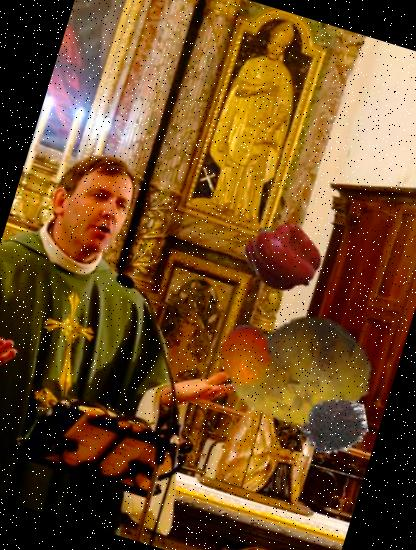Mandarine: (205, 316, 284, 395)
Pepper: (237, 212, 330, 304)
Potato: (211, 282, 390, 462)
Rambutan: (294, 387, 376, 469)
